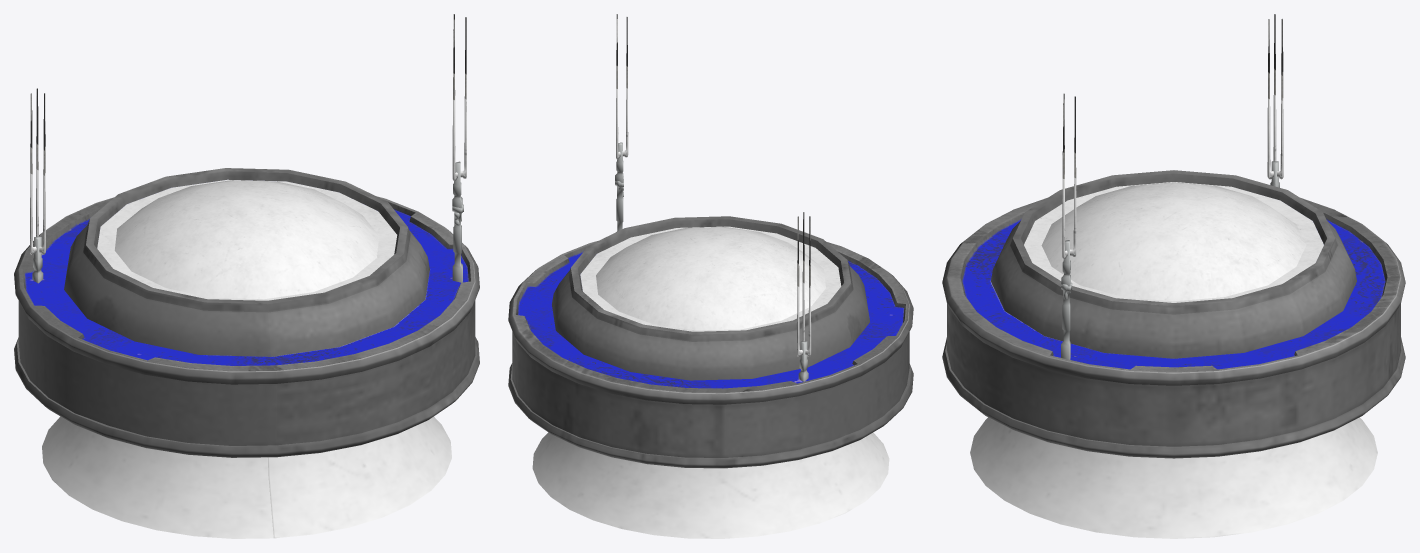
File: ME_Smallest_Tower.fbx
The picture shows the model from 3 angles, left to right: view 1: azimuth 30°, elevation 25°; view 2: azimuth 150°, elevation 25°; view 3: azimuth 270°, elevation 25°; orthographic projection. The views are drawn at different scales.
Parts seen in each view (by area): view 1: ME_Smallest_Tower; view 2: ME_Smallest_Tower; view 3: ME_Smallest_Tower.
Boxes of the visible parts, <box> form: ME_Smallest_Tower: <box>14,14,479,538</box>; ME_Smallest_Tower: <box>508,14,913,538</box>; ME_Smallest_Tower: <box>942,14,1405,538</box>.
Bounding box in the file's own units: 136 × 140 × 136.
